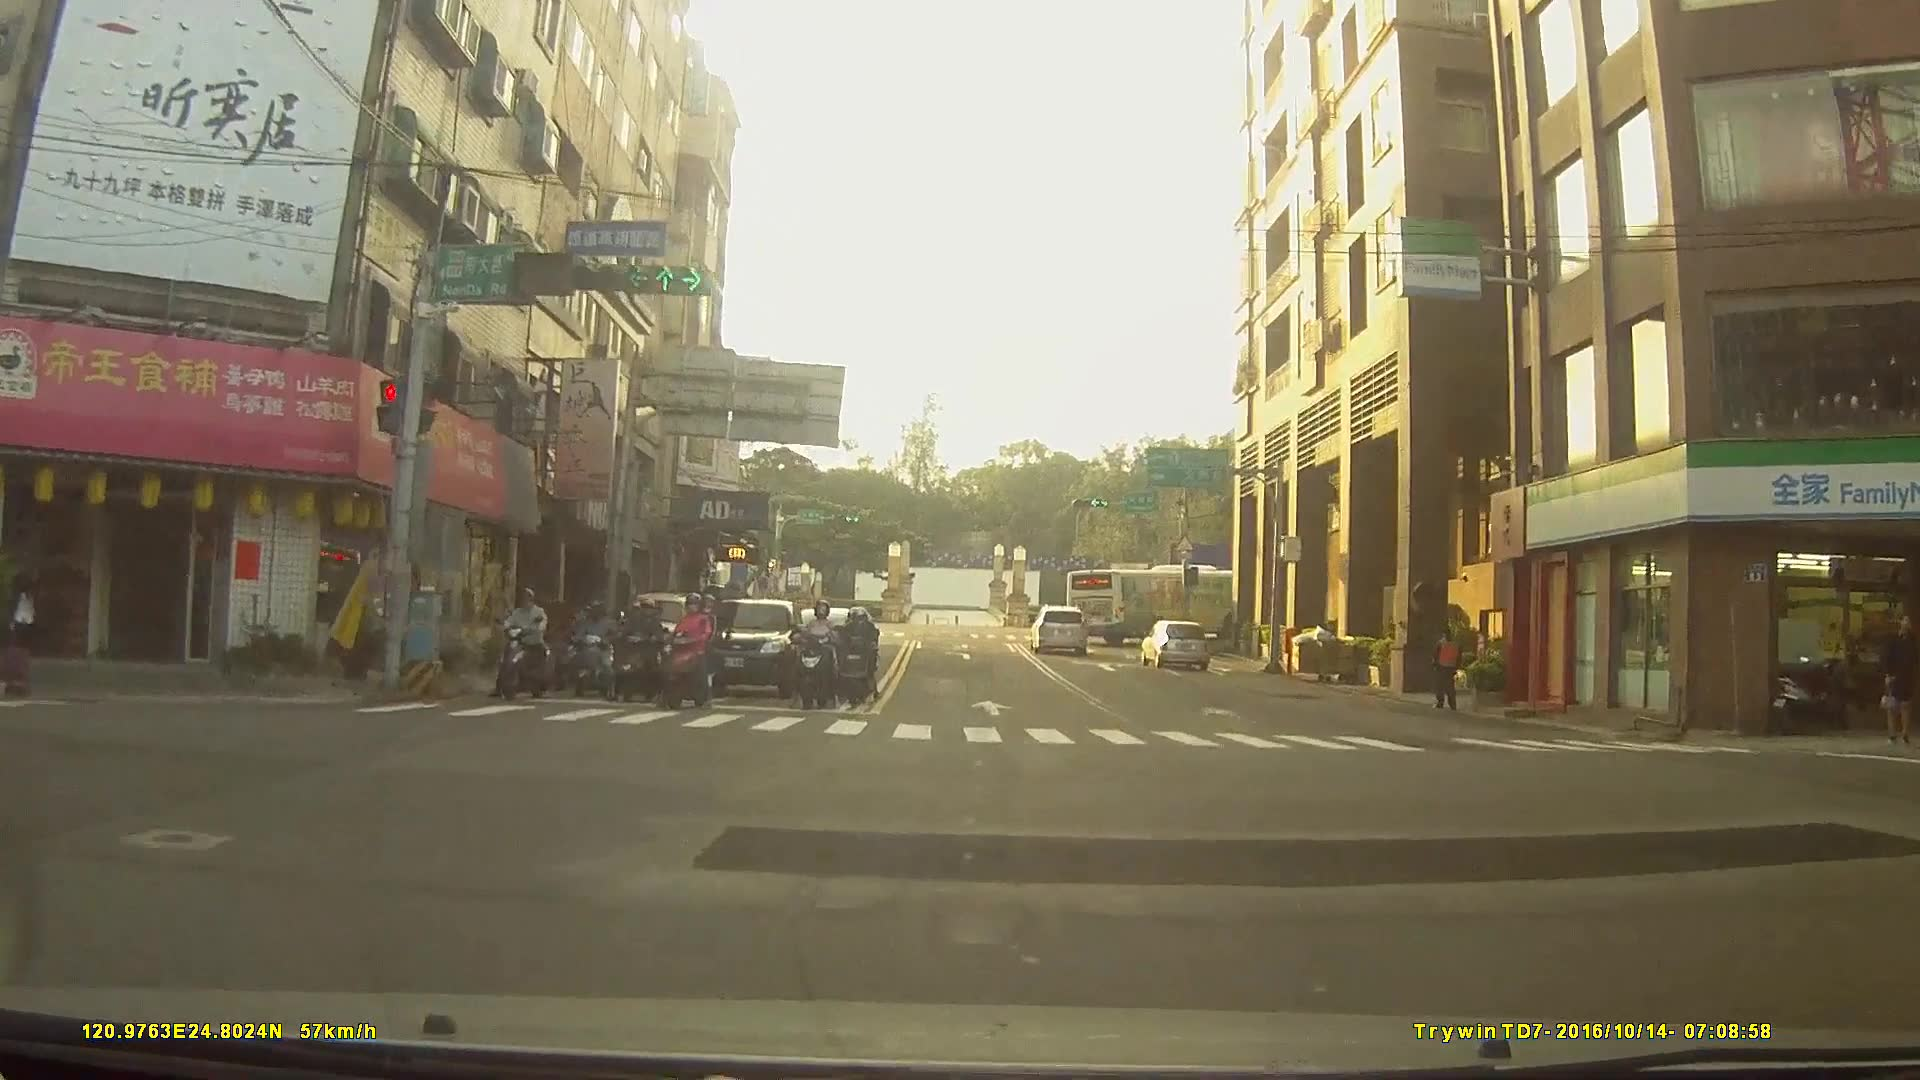pedestrian: (6, 563, 46, 697), (1879, 613, 1919, 743), (1432, 628, 1463, 712)
rider: (655, 594, 721, 718), (493, 591, 555, 703), (795, 603, 845, 711), (614, 599, 662, 703), (563, 602, 612, 702), (834, 614, 880, 709)
vehicle: (1063, 565, 1250, 643), (682, 596, 800, 699), (1137, 617, 1210, 669), (1029, 604, 1089, 656)
